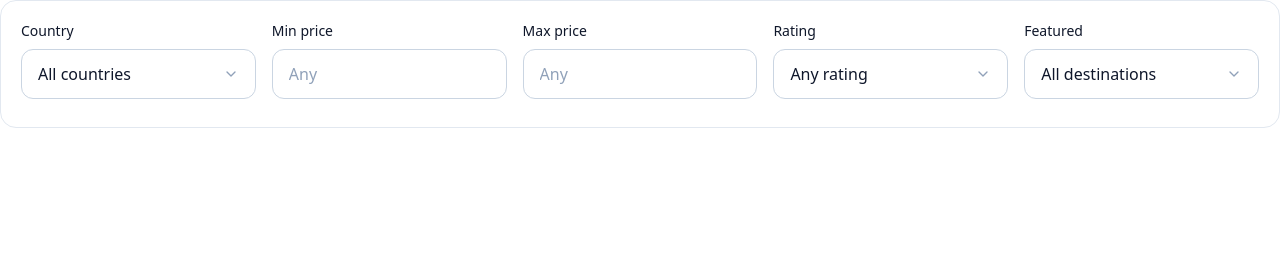
Scenario: DestinationFilters › lists the available countries
Step 1. Click the button "All countries" → (138, 74), box [21,49,256,99]
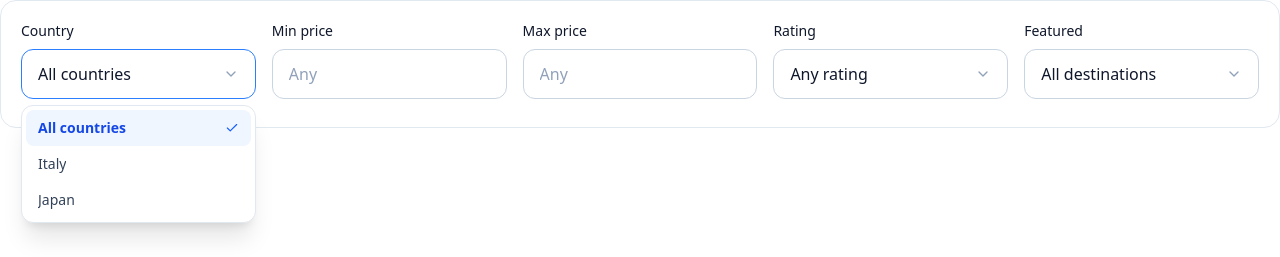
expect the option "Italy" is shown: met, box [38,154,66,173]
expect the option "Japan" is shown: met, box [38,190,75,209]
